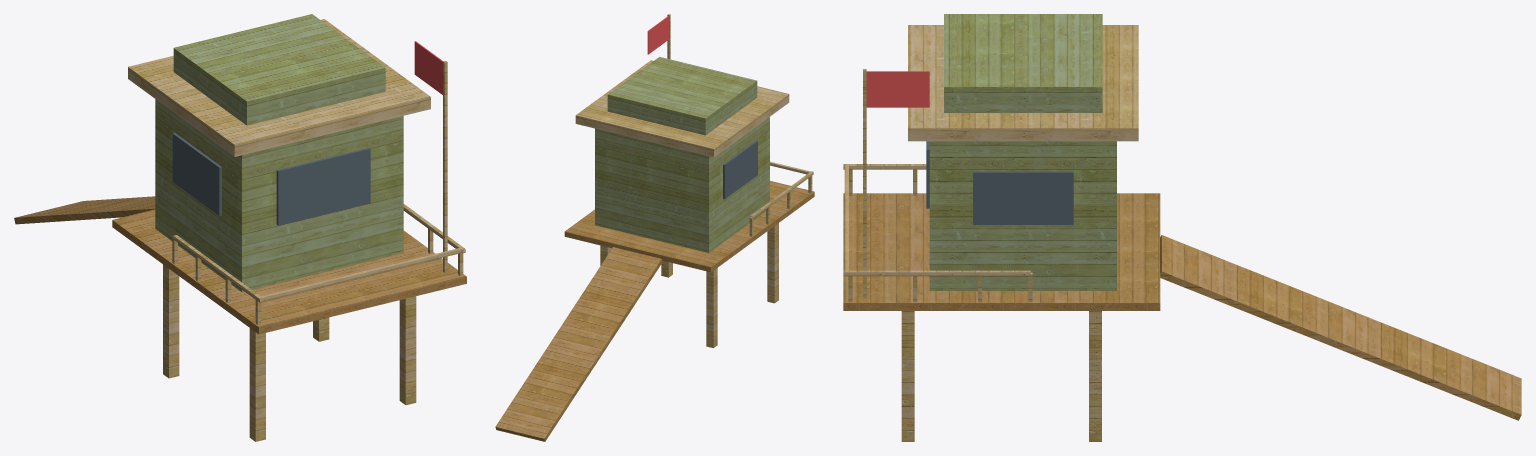
File: lifeguard_1.glb
3 views of the same model, side by side, from view 1: azimuth 30°, elevation 25°; view 2: azimuth 150°, elevation 25°; view 3: azimuth 270°, elevation 25° (orthographic). The views are drawn at different scales.
Visible parts, largest first — view 1: lifeguard; view 2: lifeguard; view 3: lifeguard.
Part boxes in pixels (left/top/right/bottom): lifeguard: left=14, top=14, right=466, bottom=441; lifeguard: left=495, top=14, right=814, bottom=441; lifeguard: left=843, top=14, right=1521, bottom=441.
Bounding box in the file's own units: 3.6 × 5.85 × 9.42.
Materials: 5 (3 with a texture image).
